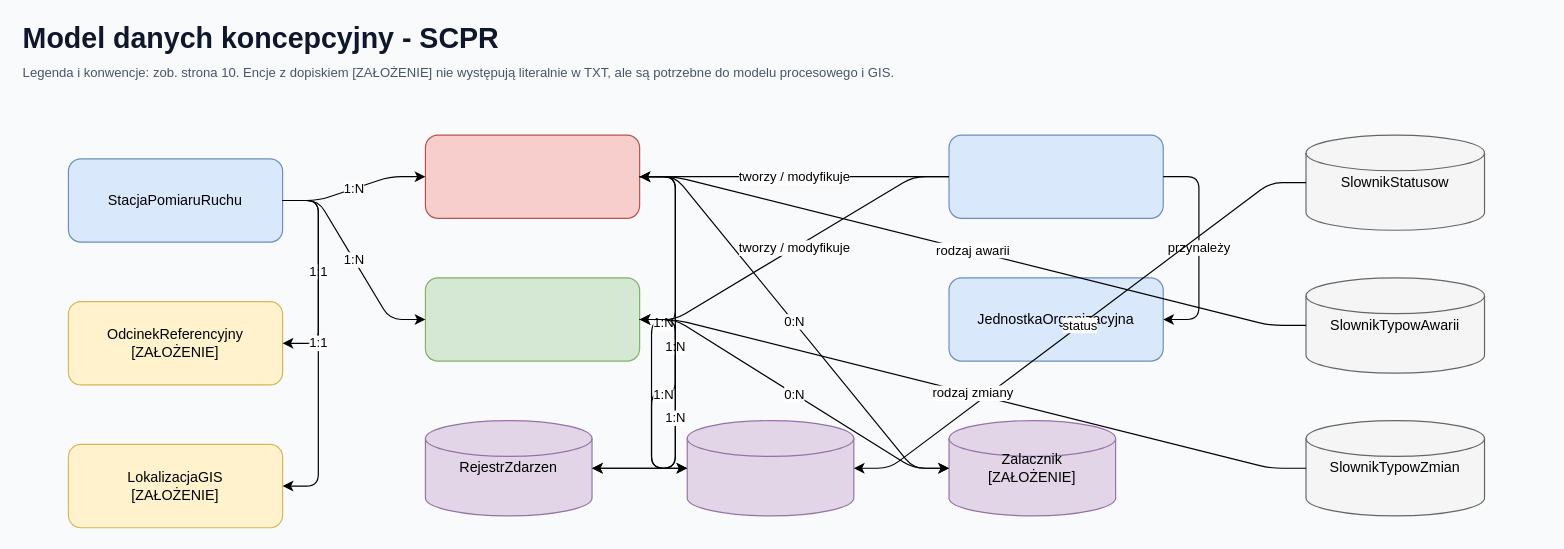
Image size: 1564x549. Some labels were removed from this diagram. The shapes that lost their labels are listed below. From the top down, each one's centre as x and y in pixels, then its label:
At point 532,176: "ZgloszenieAwarii".
At point 1055,176: "Uzytkownik".
At point 532,319: "ZgloszenieZmiany".
At point 770,467: "HistoriaStatusu".
